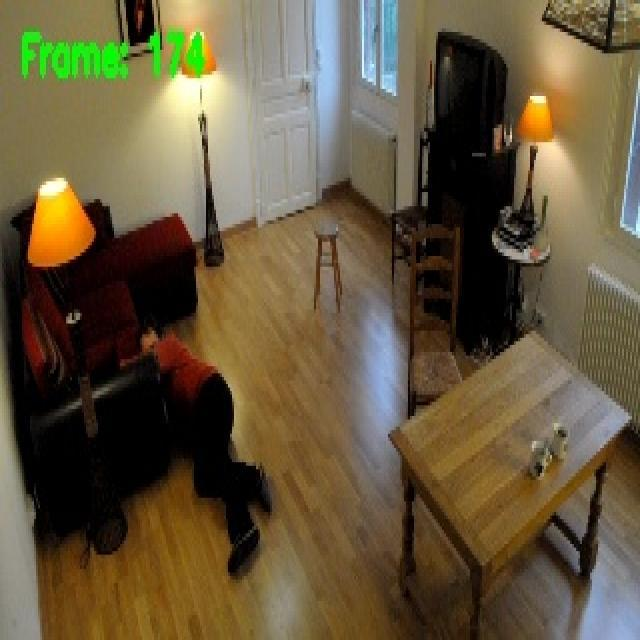fall: (118, 328, 274, 580)
